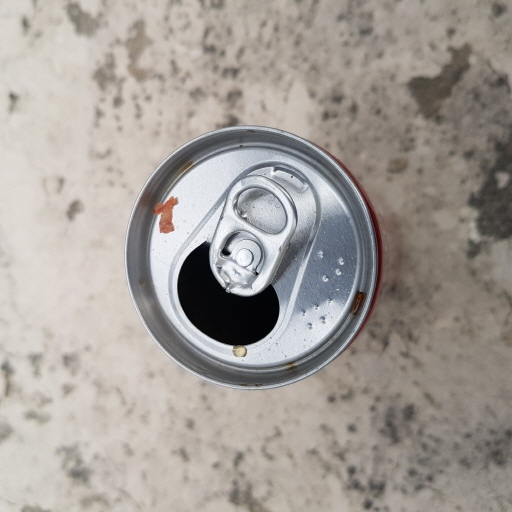Metal_0: (119, 123, 388, 392)
